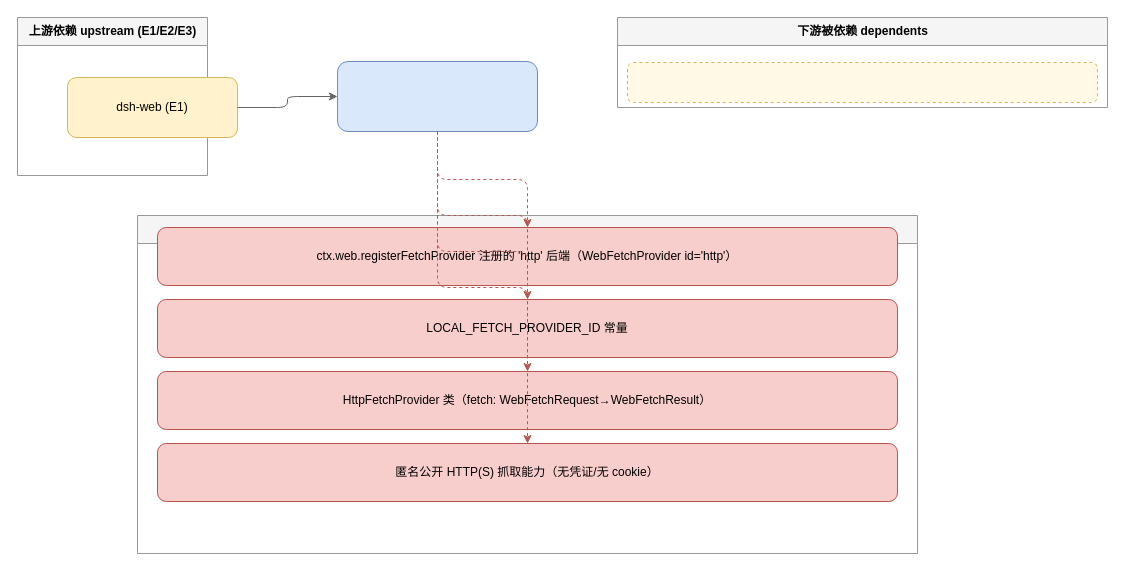
Some shapes in this 1125 by 571 pixel diagram are drawn without their labels. Here are the shapes that lost their labels. From the top down, the box of each, then its label:
(336, 60, 538, 132): @deepseek-ai/dsh-web-fetch-http
(626, 62, 1098, 102): … 无下游依赖（L3 扩展点，共 0 个）
(136, 214, 918, 554): 提供服务 provides（关键项）
